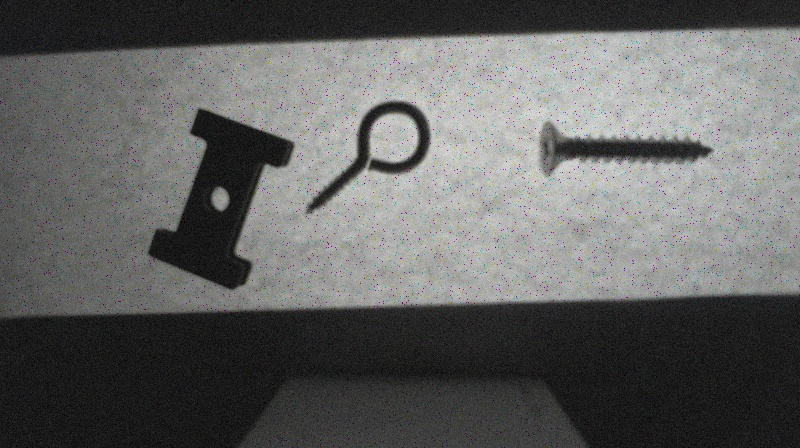O001: (302, 96, 430, 220)
O002: (145, 106, 295, 286)
S001: (528, 118, 717, 176)
